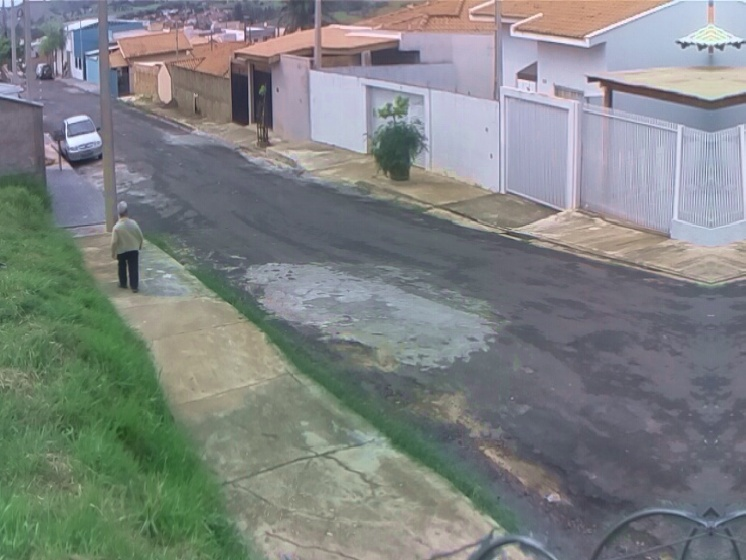person: (109, 198, 144, 297)
